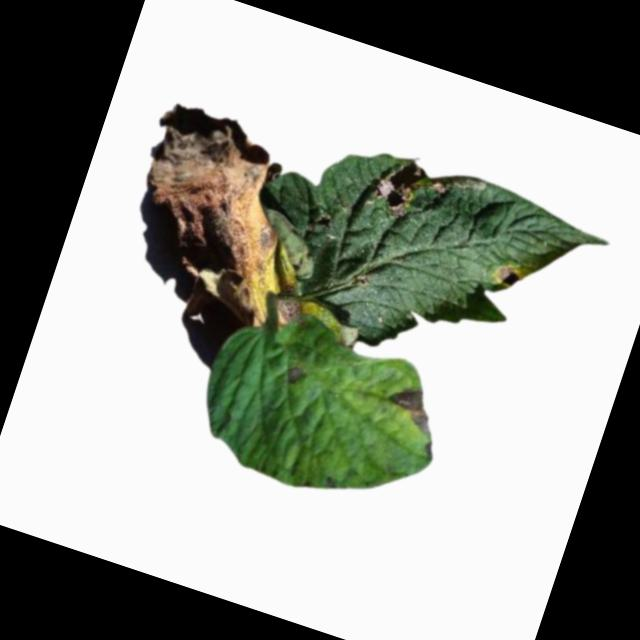Early_blight: (102, 94, 352, 337), (368, 152, 434, 224), (374, 377, 442, 437), (489, 259, 522, 292), (282, 364, 304, 389)
